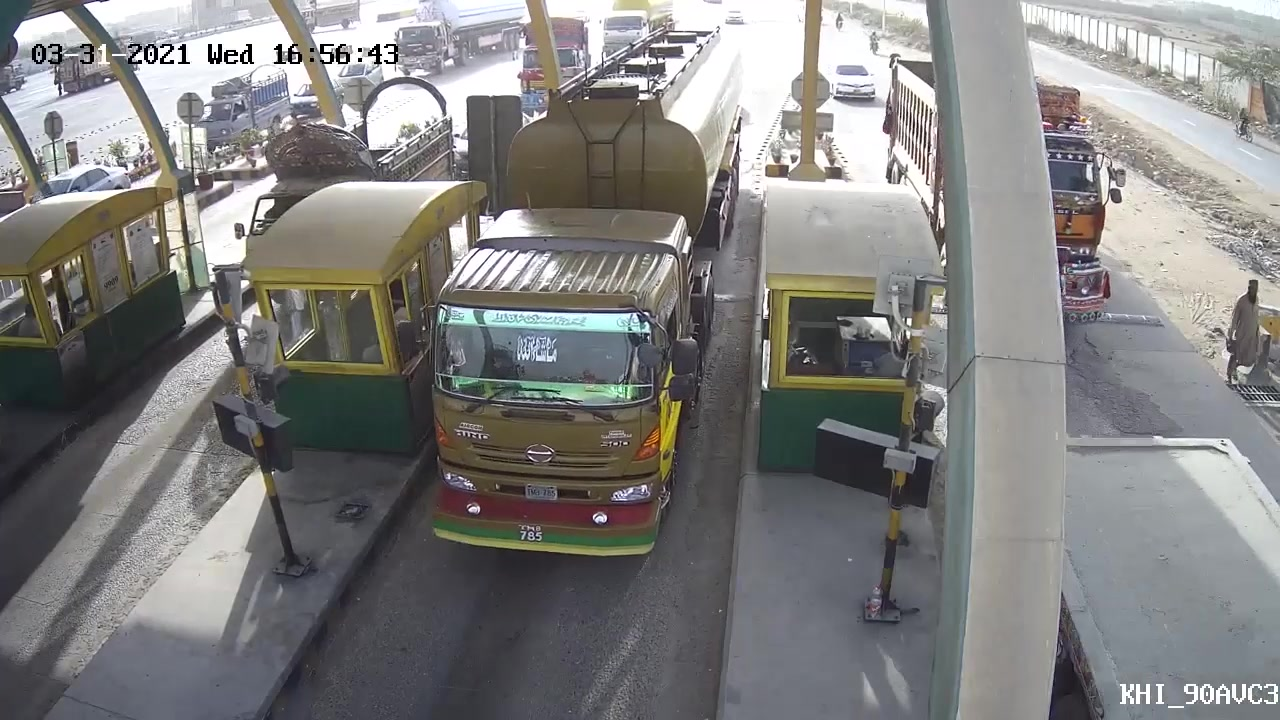F6: (394, 25, 757, 569)
